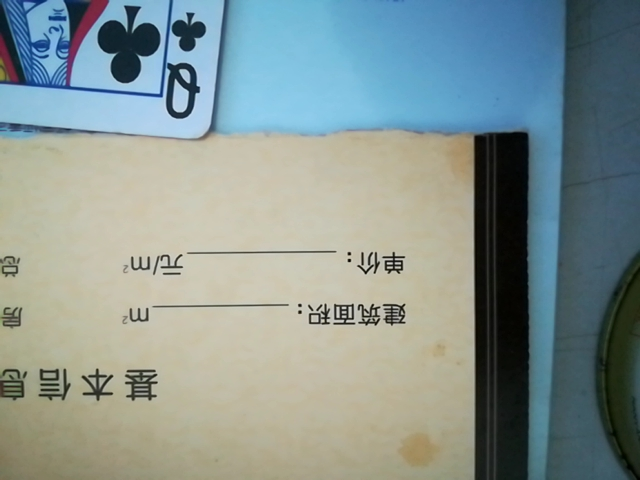mh q: (0, 0, 249, 137)
